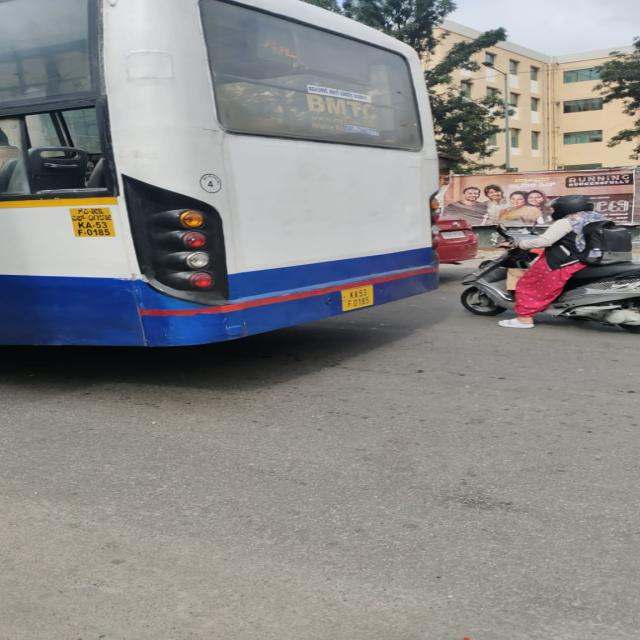bus: (0, 0, 450, 380)
display: (251, 29, 384, 85)
